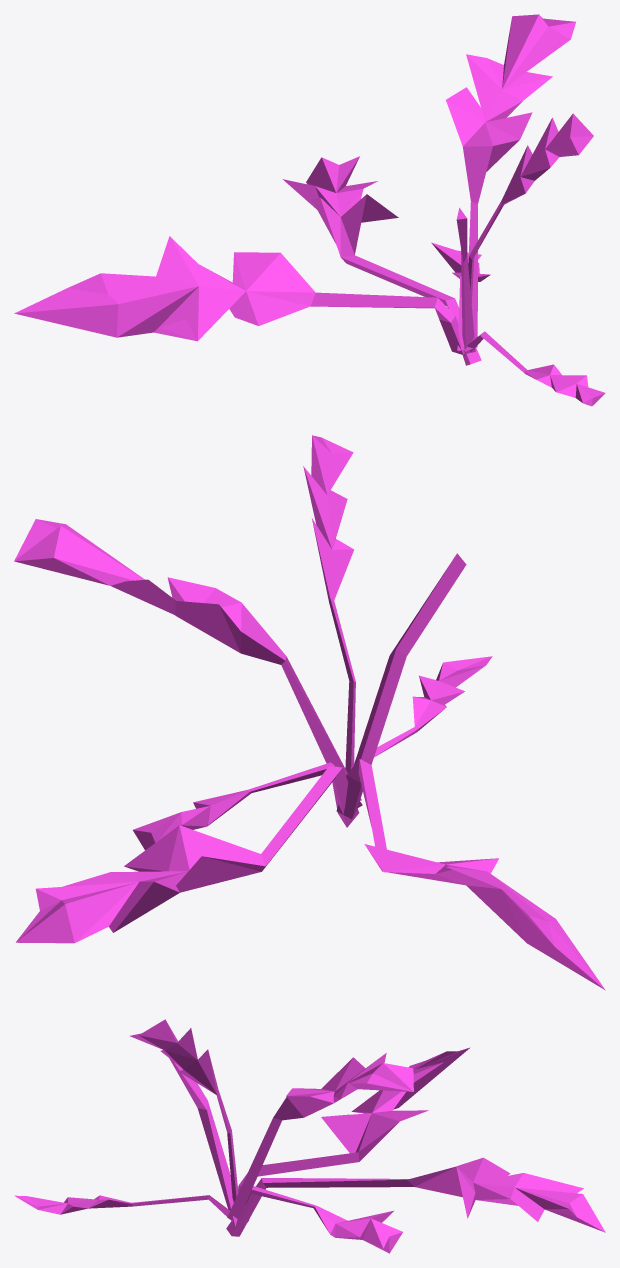
File: SM_Parsnip_Plant_Dead.fbx
The picture shows the model from 3 angles, top to bottom: view 1: azimuth 30°, elevation 25°; view 2: azimuth 150°, elevation 25°; view 3: azimuth 270°, elevation 25°; orthographic projection. The views are drawn at different scales.
Parts seen in each view (by area): view 1: SM_Parsnip_Plant_Dead; view 2: SM_Parsnip_Plant_Dead; view 3: SM_Parsnip_Plant_Dead.
Part boxes in pixels (x1,y1,x2,y2): SM_Parsnip_Plant_Dead: [14, 14, 605, 406]; SM_Parsnip_Plant_Dead: [14, 435, 605, 990]; SM_Parsnip_Plant_Dead: [14, 1019, 605, 1253].
Bounding box in the file's own units: 0.8125 × 0.4064 × 0.8791.
